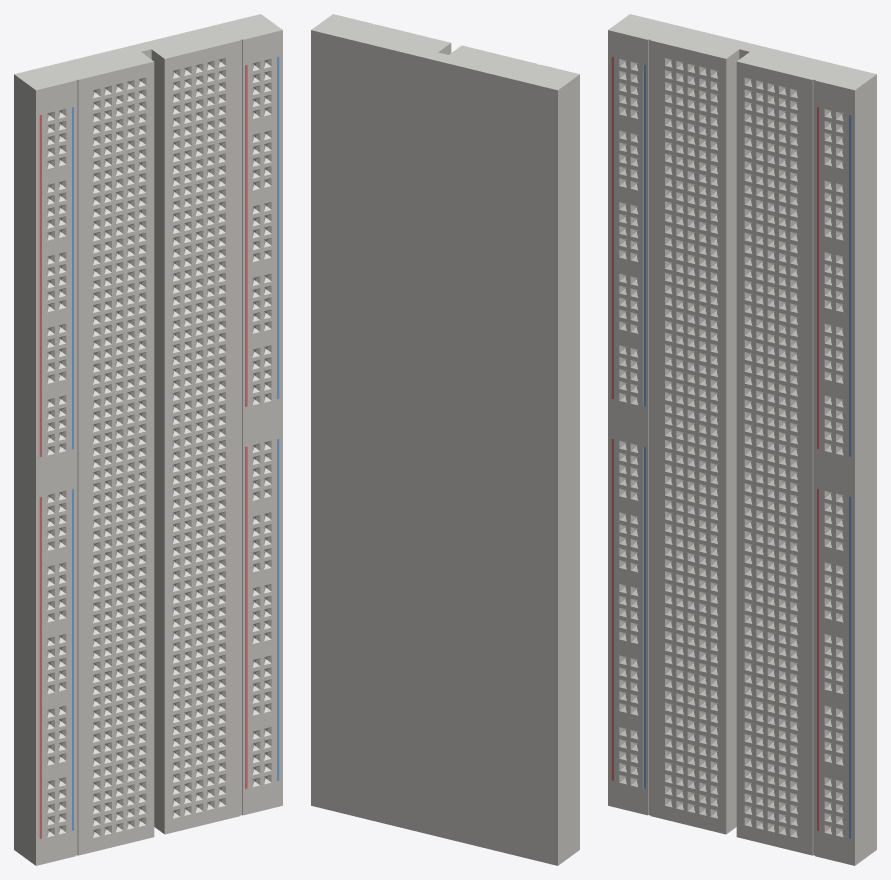
The model's file is breadboard.glb.
The picture shows the model from 3 angles, left to right: view 1: azimuth 30°, elevation 25°; view 2: azimuth 150°, elevation 25°; view 3: azimuth 330°, elevation 25°; orthographic projection.
Visible parts, largest first — view 1: body, rail_plus, rail_minus; view 2: body; view 3: body, rail_plus, rail_minus.
Part boxes in pixels (bbox=[...]): body: bbox=[14, 14, 282, 865]; rail_plus: bbox=[39, 65, 246, 838]; rail_minus: bbox=[72, 57, 279, 830]; body: bbox=[311, 14, 579, 865]; body: bbox=[608, 14, 876, 865]; rail_plus: bbox=[611, 57, 818, 830]; rail_minus: bbox=[644, 65, 851, 838].
Bounding box in the file's own units: 0.055 × 0.1651 × 0.0085.
